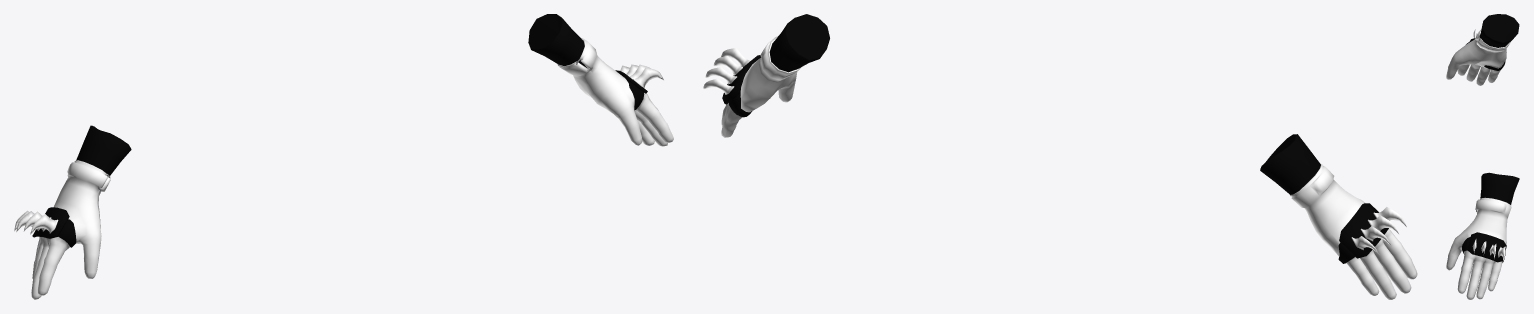
The model's file is SurvivorMale_Hands_Gloves_Wasteland_LOD0.glb.
3 renders of one model, left to right at view 1: azimuth 30°, elevation 25°; view 2: azimuth 150°, elevation 25°; view 3: azimuth 270°, elevation 25°, orthographic. The views are drawn at different scales.
Parts seen in each view (by area): view 1: Hoodie; view 2: Hoodie; view 3: Hoodie.
Boxes of the visible parts, x1,y1,x2,y2 form: Hoodie: (14, 14, 673, 299); Hoodie: (702, 14, 1417, 299); Hoodie: (1446, 14, 1519, 299).
Bounding box in the file's own units: 1.34 × 0.2767 × 0.1886.
Materials: 1 (1 with a texture image).
